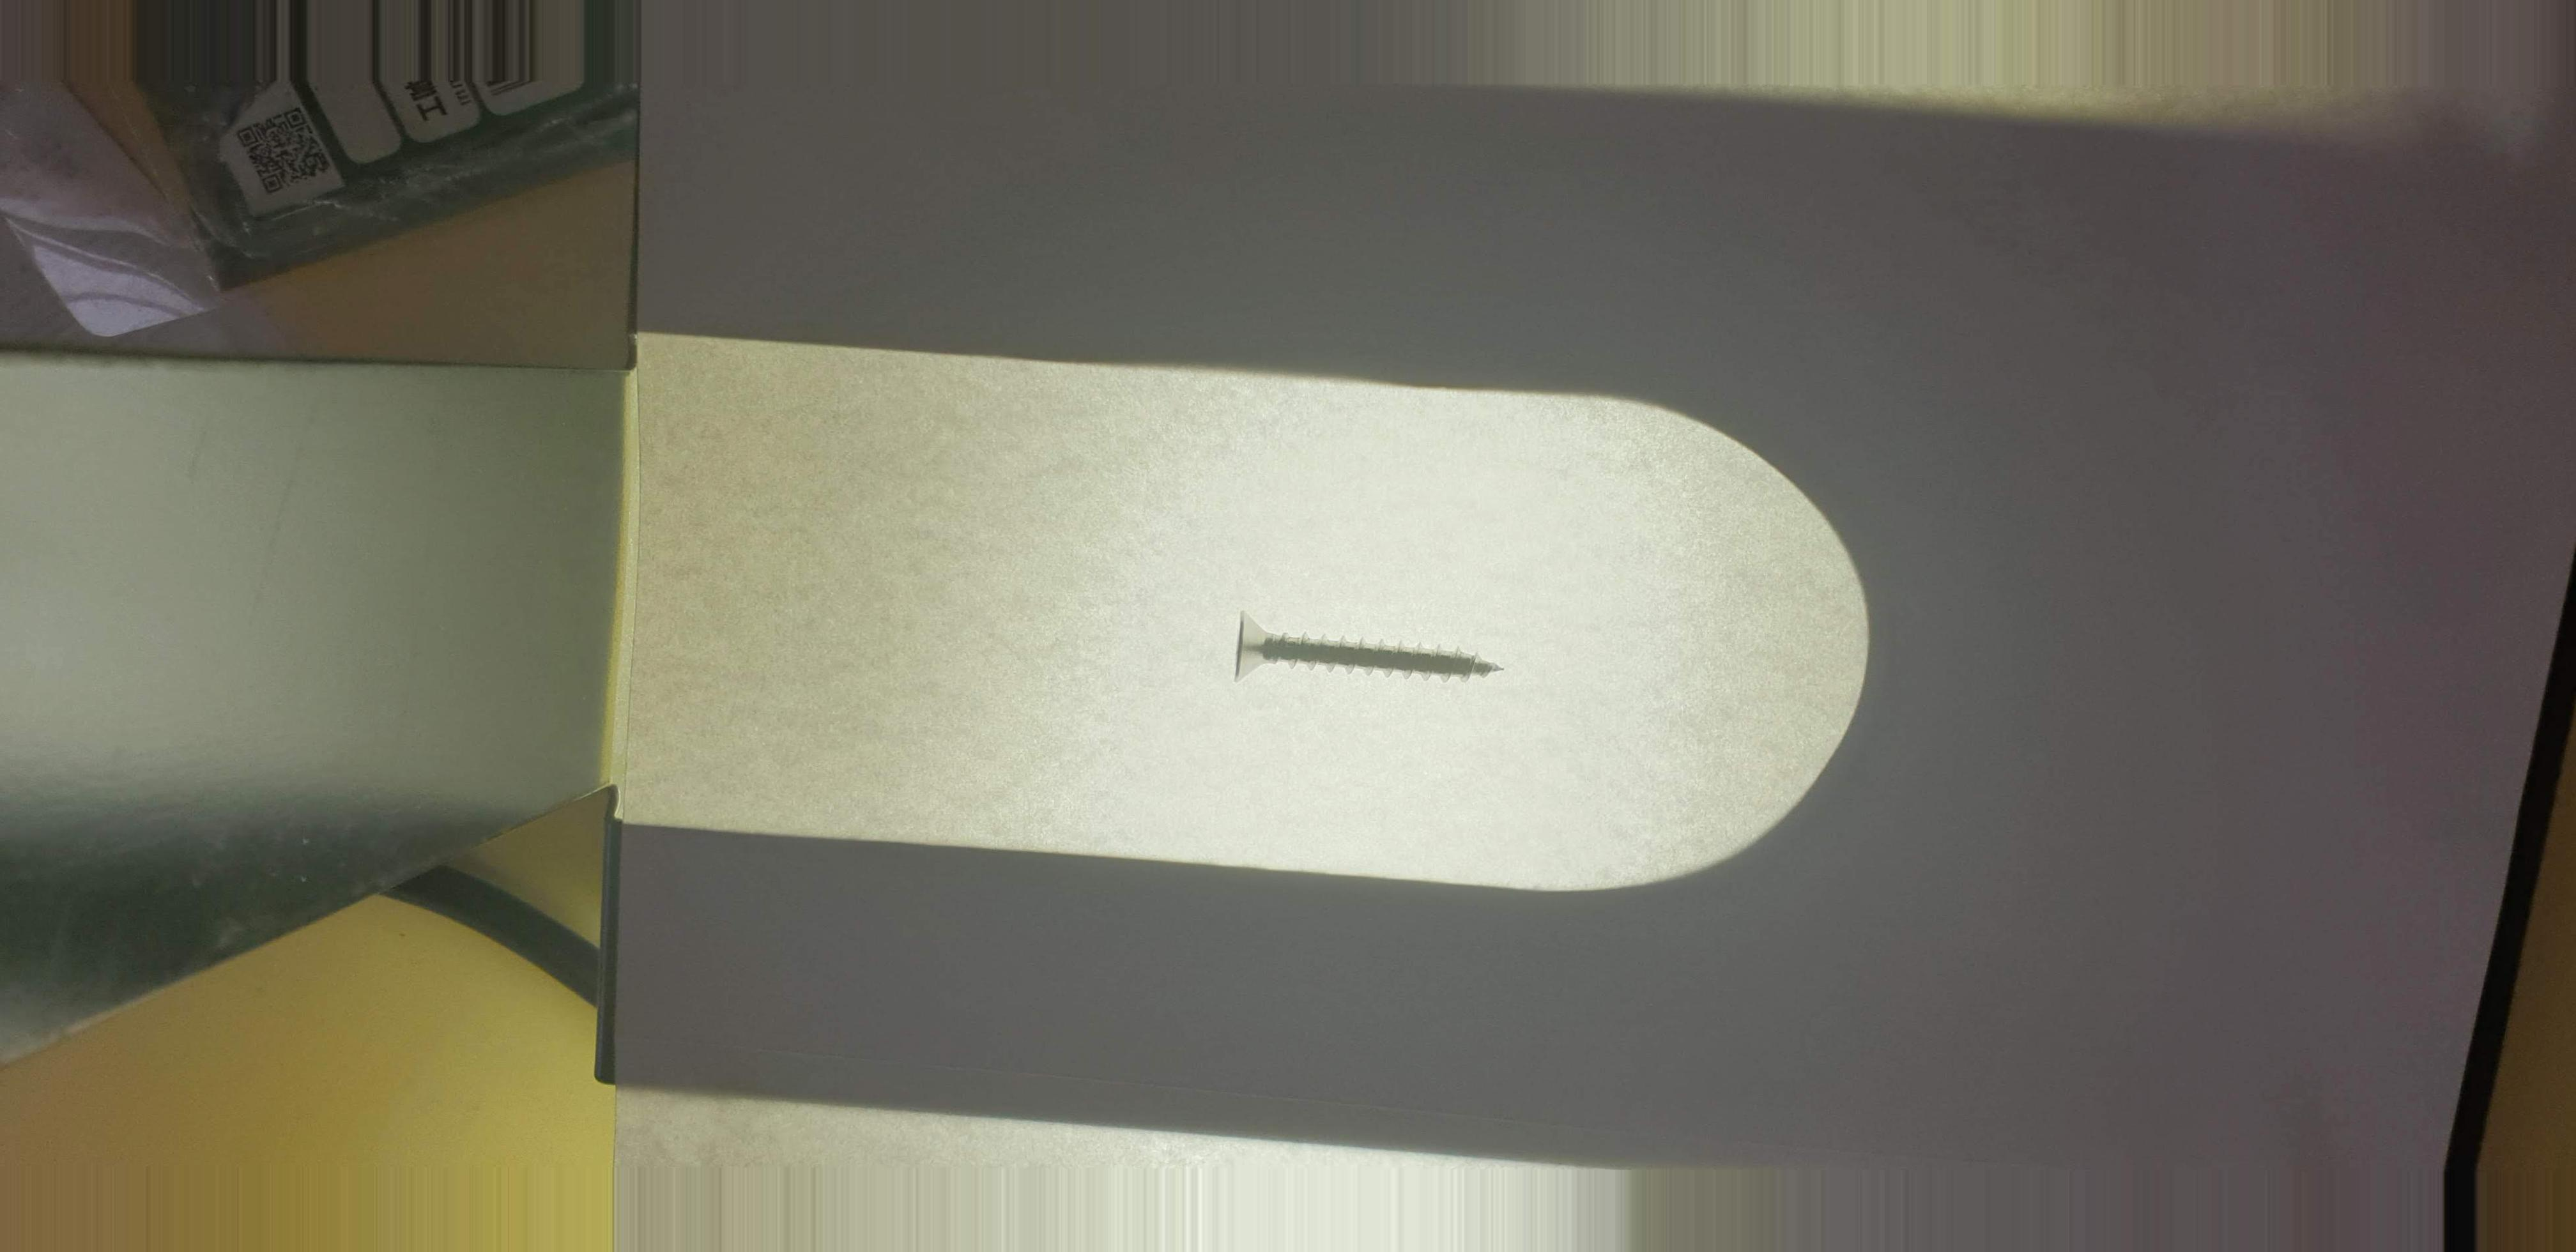S004: (1193, 585, 1556, 730)
